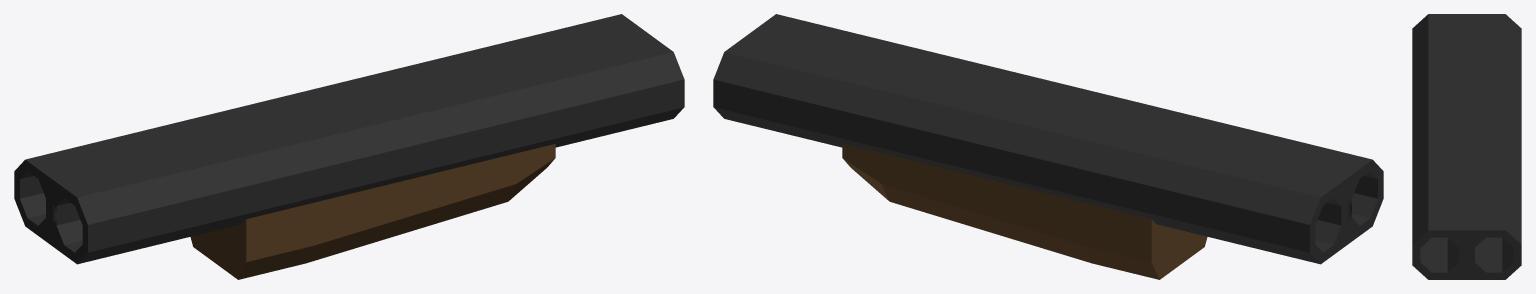
Rendered from Shotgun4_01_2.fbx.
3 views of the same model, side by side, from view 1: azimuth 30°, elevation 25°; view 2: azimuth 150°, elevation 25°; view 3: azimuth 270°, elevation 25° (orthographic). The views are drawn at different scales.
Visible parts, largest first — view 1: Shotgun4_01_2; view 2: Shotgun4_01_2; view 3: Shotgun4_01_2.
Boxes of the visible parts, bbox=[...] form: Shotgun4_01_2: bbox=[14, 14, 684, 279]; Shotgun4_01_2: bbox=[713, 14, 1383, 279]; Shotgun4_01_2: bbox=[1412, 14, 1521, 279].
Size of the model in its own units: 0.2847 by 0.057 by 0.0608.
